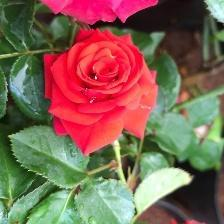rose: (44, 30, 158, 159)
